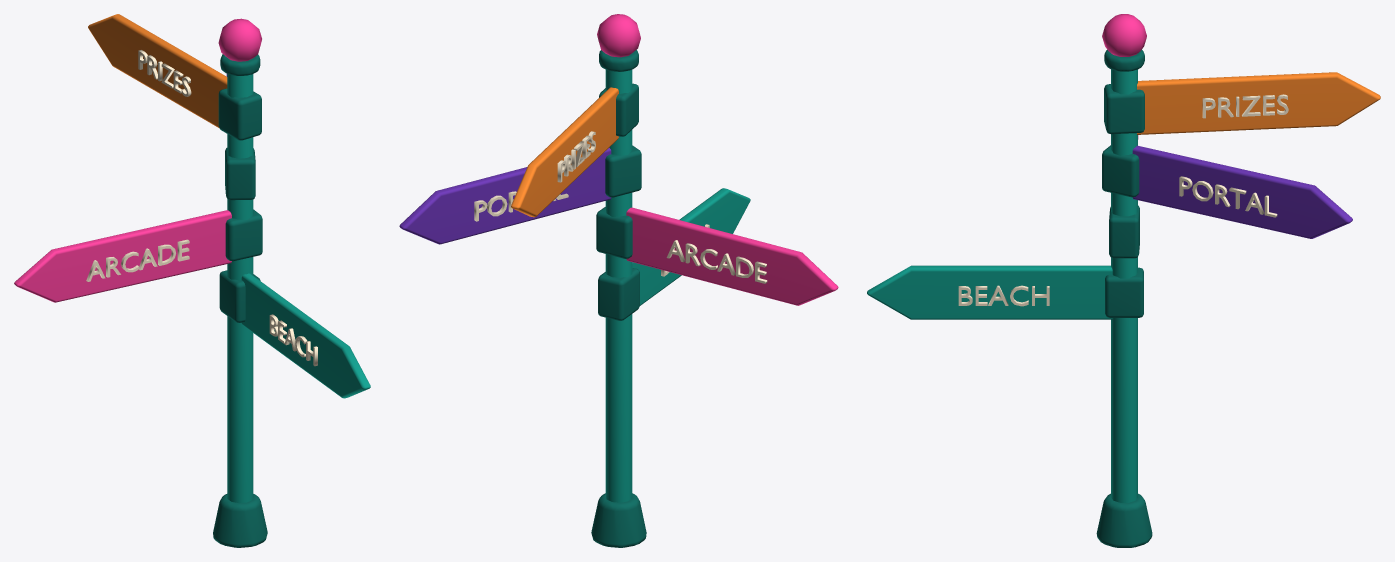
The model's file is signpost_b.glb.
The picture shows the model from 3 angles, left to right: view 1: azimuth 30°, elevation 25°; view 2: azimuth 150°, elevation 25°; view 3: azimuth 270°, elevation 25°; orthographic projection.
Visible parts, largest first — view 1: Signpost; view 2: Signpost; view 3: Signpost.
Boxes of the visible parts, left/top/right/bottom form: Signpost: left=14, top=14, right=370, bottom=547; Signpost: left=399, top=14, right=838, bottom=547; Signpost: left=867, top=14, right=1380, bottom=547.
Size of the model in its own units: 2.53 by 3.83 by 3.41.
